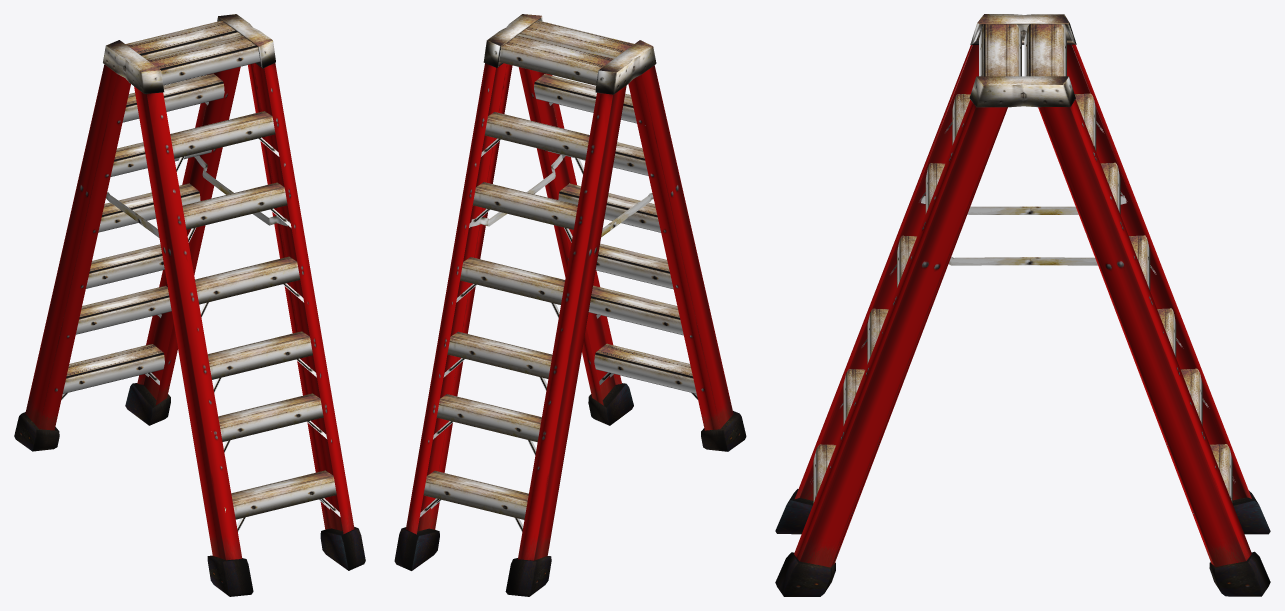
File: Step Ladder.FBX
3 renders of one model, left to right at view 1: azimuth 30°, elevation 25°; view 2: azimuth 150°, elevation 25°; view 3: azimuth 270°, elevation 25°, orthographic. The views are drawn at different scales.
Visible parts, largest first — view 1: Step Ladder; view 2: Step Ladder; view 3: Step Ladder.
Boxes of the visible parts, <box> form: Step Ladder: <box>14,14,365,596</box>; Step Ladder: <box>394,14,746,596</box>; Step Ladder: <box>775,14,1270,596</box>.
Size of the model in its own units: 66.9 by 188 by 214.
